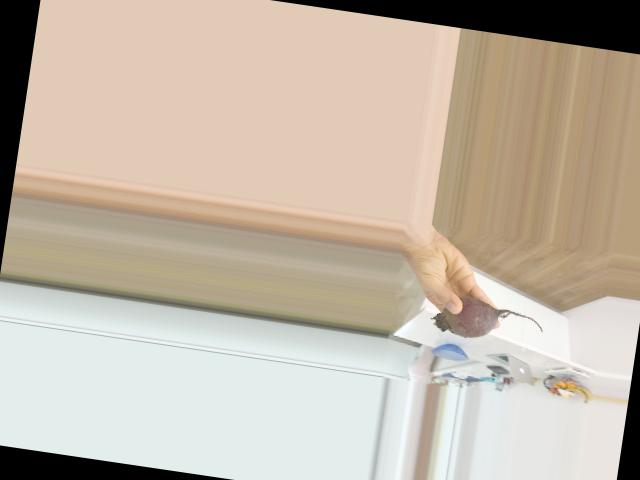beet: (430, 293, 546, 348)
